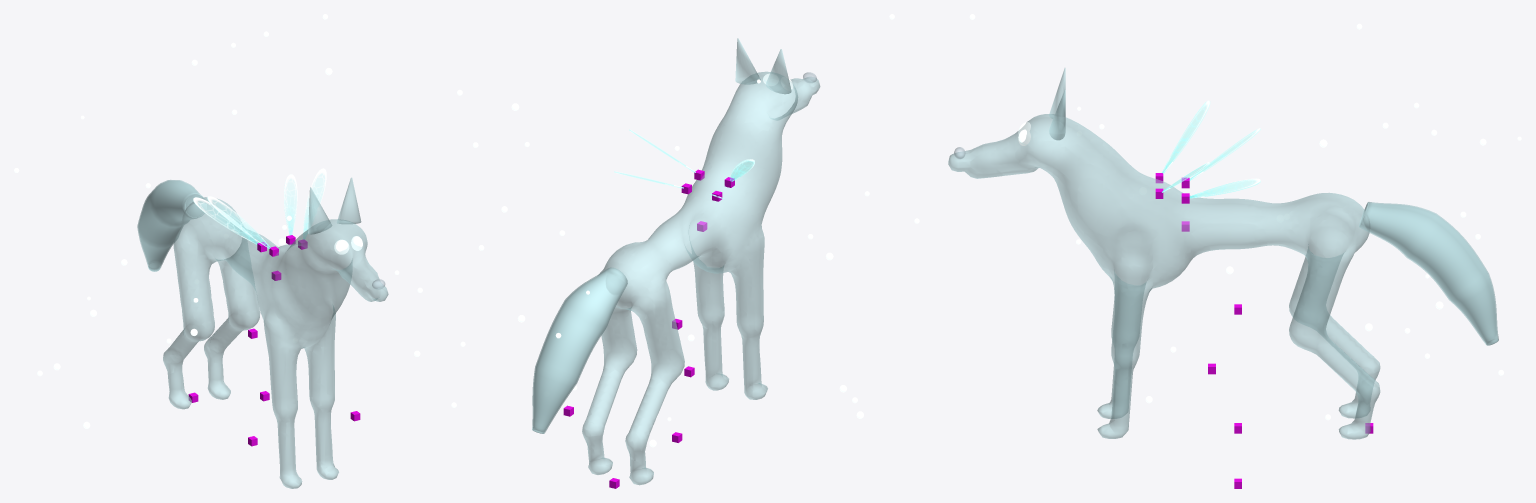
The model's file is 07_lupo_luce.glb.
3 views of the same model, side by side, from view 1: azimuth 30°, elevation 25°; view 2: azimuth 150°, elevation 25°; view 3: azimuth 270°, elevation 25° (orthographic). The views are drawn at different scales.
Parts seen in each view (by area): view 1: Lupo__Corpo_Spettrale, Lupo__Ali_Delicate__Ali2_L, Lupo__Ali_Delicate__Ali_L, Lupo__Ali_Delicate__Ali_R, Lupo__Ali_Delicate__Ali2_R; view 2: Lupo__Corpo_Spettrale; view 3: Lupo__Corpo_Spettrale, Lupo__Ali_Delicate__Ali_L.
Part boxes in pixels (box(x1,y1,x2,y2)): Lupo__Corpo_Spettrale: box(137, 177, 388, 488); Lupo__Ali_Delicate__Ali2_L: box(193, 197, 257, 244); Lupo__Ali_Delicate__Ali_L: box(207, 196, 270, 248); Lupo__Ali_Delicate__Ali_R: box(303, 168, 326, 238); Lupo__Ali_Delicate__Ali2_R: box(284, 174, 297, 235); Lupo__Corpo_Spettrale: box(532, 38, 820, 485); Lupo__Corpo_Spettrale: box(948, 68, 1498, 439); Lupo__Ali_Delicate__Ali_L: box(1162, 100, 1210, 173).
Size of the model in its own units: 4.89 by 4.85 by 6.56.
6 materials, 1 textured.
